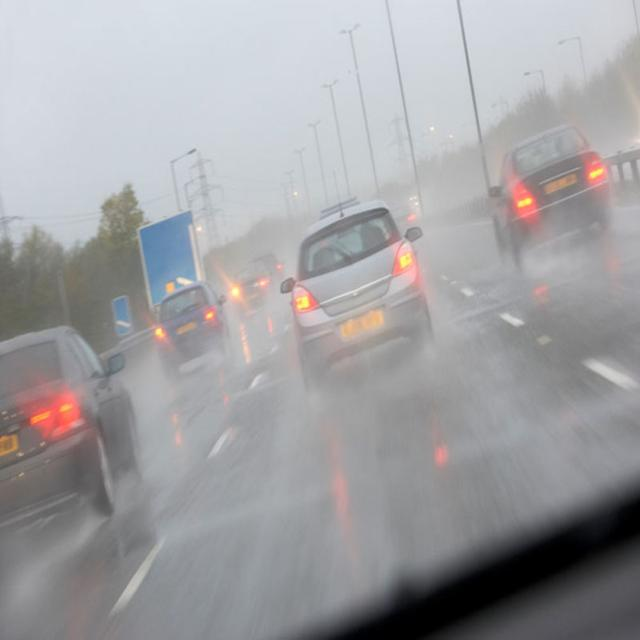car: (290, 195, 438, 396), (1, 328, 135, 538), (491, 125, 608, 282), (151, 288, 229, 372), (229, 259, 269, 317), (258, 250, 284, 292), (395, 204, 421, 243)
